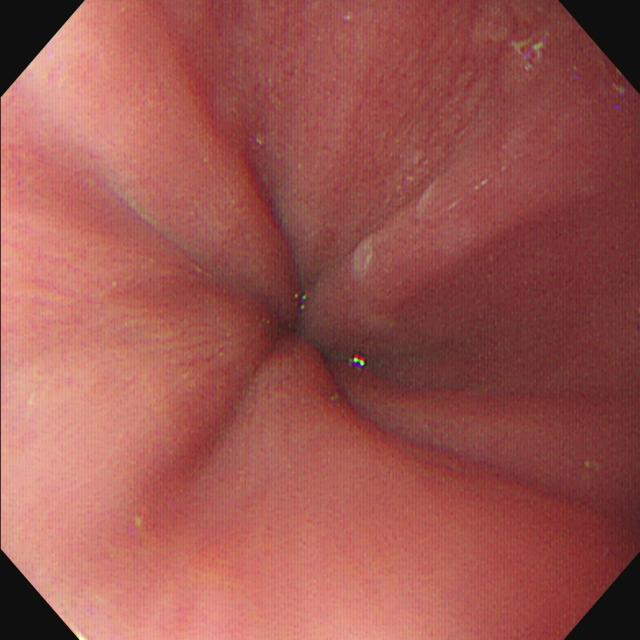I: (209, 216, 400, 444)
U: (349, 353, 368, 375)
